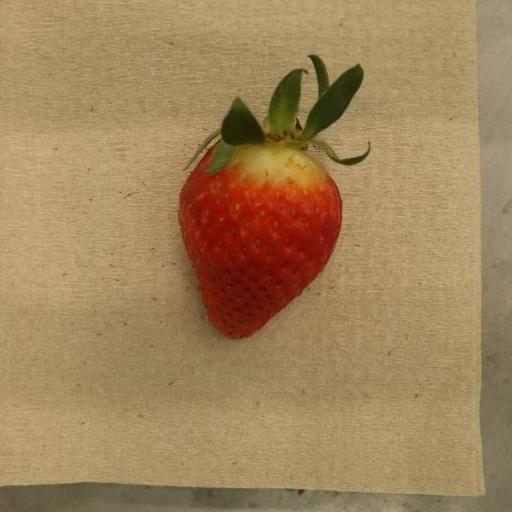Strawberry: (179, 55, 364, 340)
